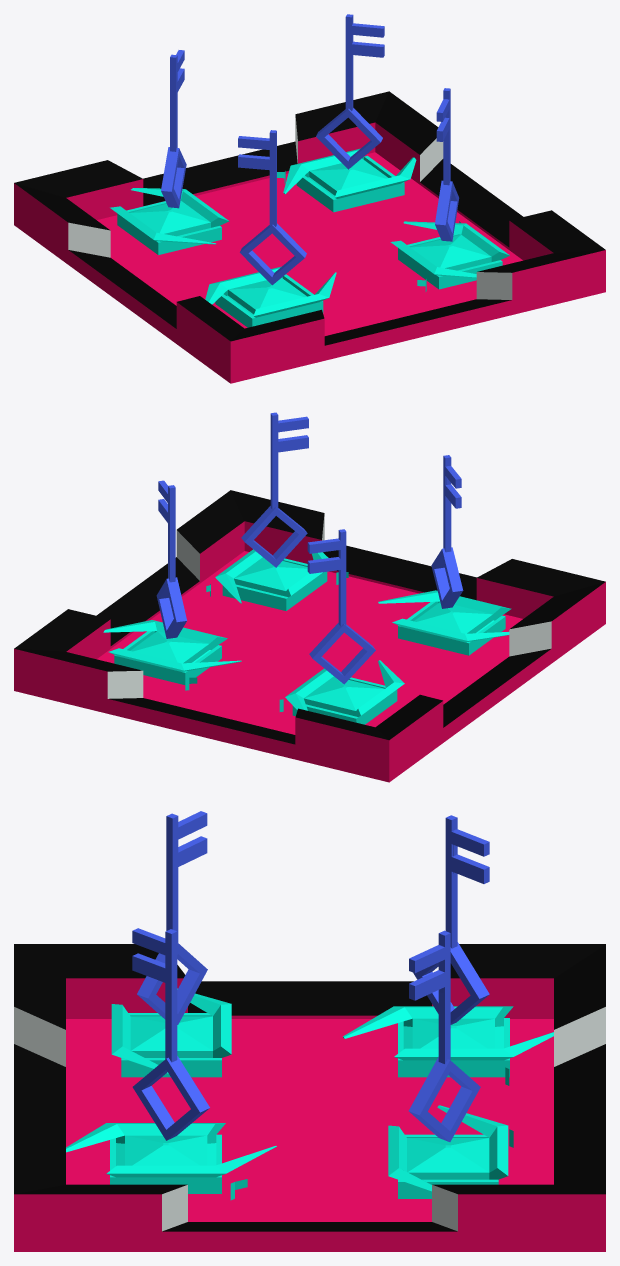
File: keyplatform8.fbx
3 views of the same model, one above another, from view 1: azimuth 30°, elevation 25°; view 2: azimuth 150°, elevation 25°; view 3: azimuth 270°, elevation 25° (orthographic). The views are drawn at different scales.
Parts seen in each view (by area): view 1: Cube.001, Cube, Cube.002; view 2: Cube.001, Cube, Cube.002; view 3: Cube.001, Cube, Cube.002.
Boxes of the visible parts, box(x1,y1,x2,y2) form: Cube.001: box(14, 91, 605, 383); Cube: box(110, 148, 509, 327); Cube.002: box(161, 14, 459, 285); Cube.001: box(14, 490, 605, 782); Cube: box(103, 549, 511, 724); Cube.002: box(156, 412, 463, 684); Cube.001: box(14, 944, 605, 1251); Cube: box(66, 988, 553, 1200); Cube.002: box(132, 811, 489, 1141).
Bounding box in the file's own units: 1388 × 654 × 1388.
